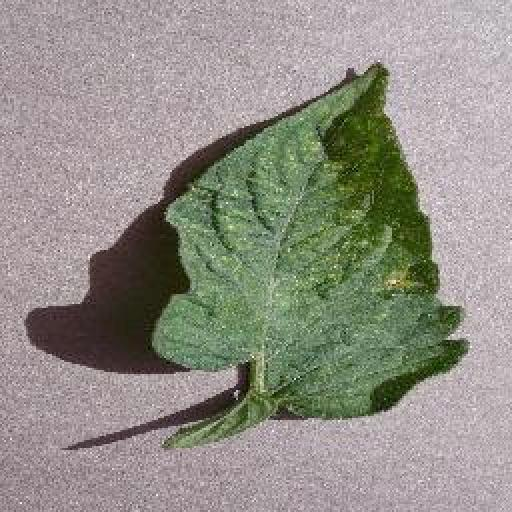disease_tomato: (151, 65, 469, 419)
